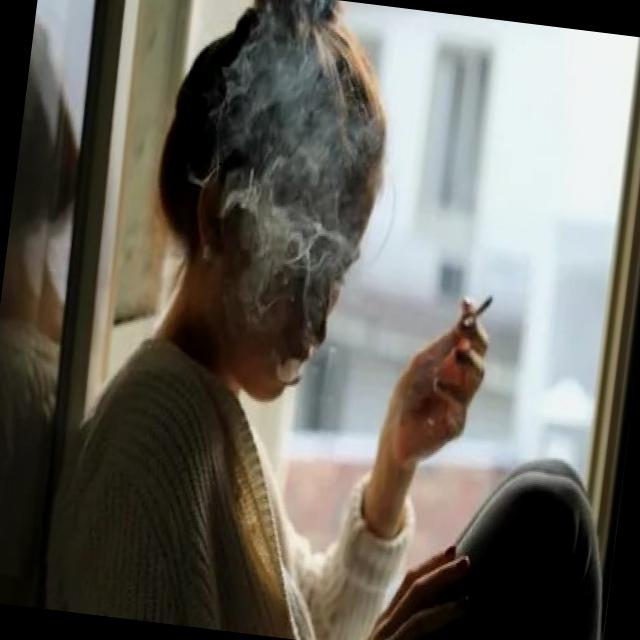cigarette: (454, 287, 498, 335)
